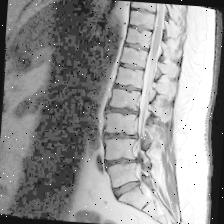disc: (108, 78, 146, 96), (112, 57, 148, 75), (124, 3, 160, 19), (118, 40, 154, 54), (124, 19, 155, 34)
hdisc: (102, 100, 140, 122), (100, 152, 140, 170), (98, 125, 139, 142)
